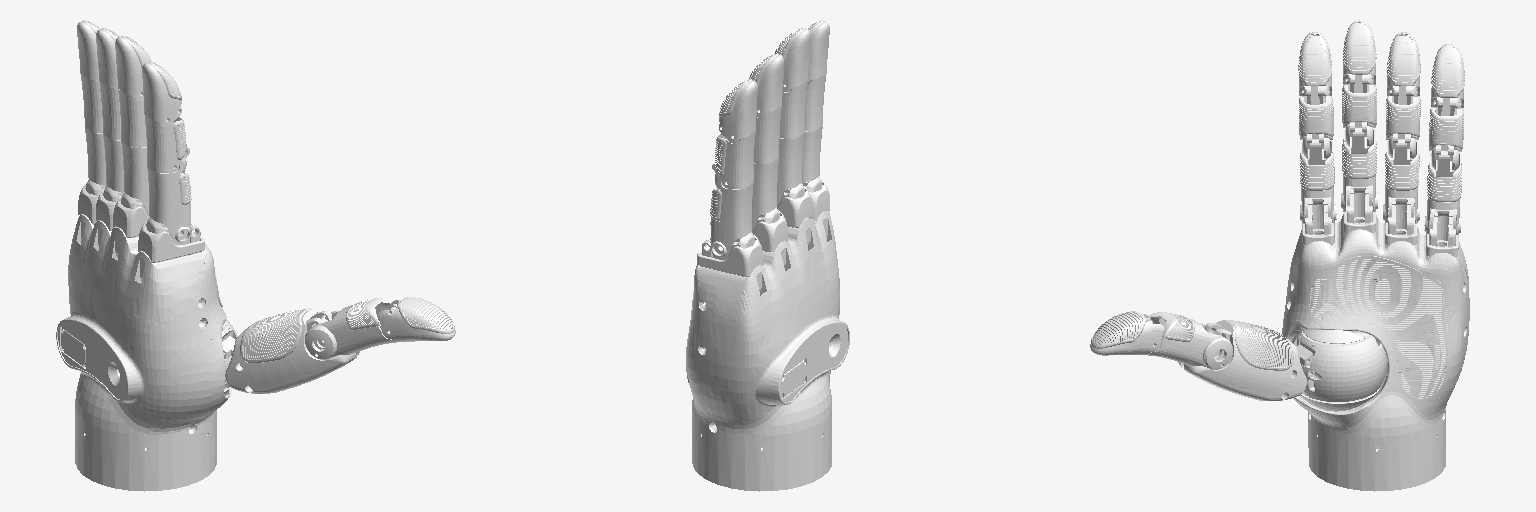
URDF robot description (likerhand_o7t_left.urdf):
<?xml version="1.0" encoding="utf-8"?>
<!-- This URDF was automatically created by SolidWorks to URDF Exporter! Originally created by [author] ([email redacted]) 
     Commit Version: 1.6.0-4-g7f85cfe  Build Version: 1.6.7995.38578
     For more information, please see http://wiki.ros.org/sw_urdf_exporter -->
<robot
  name="likerhand_o7t_left.urdf">
  <link
    name="hand_base_link">
    <inertial>
      <origin
        xyz="-0.0042500911837508 0.00085680978297864 0.0748400307377518"
        rpy="0 0 0" />
      <mass
        value="0.225124072566834" />
      <inertia
        ixx="0.000307215791868368"
        ixy="-2.62393594835236E-06"
        ixz="-6.32980141818779E-06"
        iyy="0.000204974944876431"
        iyz="3.62195604578169E-06"
        izz="0.000138551118704521" />
    </inertial>
    <visual>
      <origin
        xyz="0 0 0"
        rpy="0 0 0" />
      <geometry>
        <mesh
          filename="meshes/hand_base_link.STL" />
      </geometry>
      <material
        name="">
        <color
          rgba="1 1 1 1" />
      </material>
    </visual>
    <collision>
      <origin
        xyz="0 0 0"
        rpy="0 0 0" />
      <geometry>
        <mesh
          filename="meshes/hand_base_link.STL" />
      </geometry>
    </collision>
  </link>
  <link
    name="thumb_metacarpals_base1">
    <inertial>
      <origin
        xyz="0.0221868758326095 -9.48625995070285E-06 -0.00324883171979469"
        rpy="0 0 0" />
      <mass
        value="0.0115244960032222" />
      <inertia
        ixx="3.08657221406028E-06"
        ixy="2.39576891596808E-09"
        ixz="3.1376074283793E-07"
        iyy="4.37069643376973E-06"
        iyz="1.08562146715063E-09"
        izz="1.95654132689649E-06" />
    </inertial>
    <visual>
      <origin
        xyz="0 0 0"
        rpy="0 0 0" />
      <geometry>
        <mesh
          filename="meshes/thumb_metacarpals_base1.STL" />
      </geometry>
      <material
        name="">
        <color
          rgba="1 1 1 1" />
      </material>
    </visual>
    <collision>
      <origin
        xyz="0 0 0"
        rpy="0 0 0" />
      <geometry>
        <mesh
          filename="meshes/thumb_metacarpals_base1.STL" />
      </geometry>
    </collision>
  </link>
  <joint
    name="thumb_cmc_roll"
    type="revolute">
    <origin
      xyz="-0.016939 -0.018427 0.057465"
      rpy="0 0 0" />
    <parent
      link="hand_base_link" />
    <child
      link="thumb_metacarpals_base1" />
    <axis
      xyz="-1 0 0" />
    <limit
      lower="-0.785"
      upper="0.785"
      effort="100"
      velocity="1" />
  </joint>
  <link
    name="thumb_metacarpals_base2">
    <inertial>
      <origin
        xyz="0.000732158506501421 -0.00116891771237498 -0.00114043413649958"
        rpy="0 0 0" />
      <mass
        value="0.0194012482707974" />
      <inertia
        ixx="3.11023242394477E-06"
        ixy="7.00345951479998E-07"
        ixz="-3.45895864415883E-08"
        iyy="2.43362631795933E-06"
        iyz="5.55699212497148E-08"
        izz="2.77691812675186E-06" />
    </inertial>
    <visual>
      <origin
        xyz="0 0 0"
        rpy="0 0 0" />
      <geometry>
        <mesh
          filename="meshes/thumb_metacarpals_base2.STL" />
      </geometry>
      <material
        name="">
        <color
          rgba="1 1 1 1" />
      </material>
    </visual>
    <collision>
      <origin
        xyz="0 0 0"
        rpy="0 0 0" />
      <geometry>
        <mesh
          filename="meshes/thumb_metacarpals_base2.STL" />
      </geometry>
    </collision>
  </link>
  <joint
    name="thumb_cmc_yaw"
    type="revolute">
    <origin
      xyz="0.029224 0.00012028 0.0020117"
      rpy="0 0 0" />
    <parent
      link="thumb_metacarpals_base1" />
    <child
      link="thumb_metacarpals_base2" />
    <axis
      xyz="0 0 1" />
    <limit
      lower="0"
      upper="1.57"
      effort="100"
      velocity="1" />
  </joint>
  <link
    name="thumb_metacarpals">
    <inertial>
      <origin
        xyz="0.00175928357967789 5.98422066862003E-05 0.0251802708380432"
        rpy="0 0 0" />
      <mass
        value="0.0177522528853587" />
      <inertia
        ixx="2.97620250609612E-06"
        ixy="-1.75606406726447E-10"
        ixz="8.88206077184725E-08"
        iyy="4.02119583080426E-06"
        iyz="-5.14340714112944E-10"
        izz="1.61792798866592E-06" />
    </inertial>
    <visual>
      <origin
        xyz="0 0 0"
        rpy="0 0 0" />
      <geometry>
        <mesh
          filename="meshes/thumb_metacarpals.STL" />
      </geometry>
      <material
        name="">
        <color
          rgba="1 1 1 1" />
      </material>
    </visual>
    <collision>
      <origin
        xyz="0 0 0"
        rpy="0 0 0" />
      <geometry>
        <mesh
          filename="meshes/thumb_metacarpals.STL" />
      </geometry>
    </collision>
  </link>
  <joint
    name="thumb_cmc_pitch"
    type="revolute">
    <origin
      xyz="0.015425 -0.024408 -0.0034929"
      rpy="0 -1.1075 2.1313" />
    <parent
      link="thumb_metacarpals_base2" />
    <child
      link="thumb_metacarpals" />
    <axis
      xyz="0 1 0" />
    <limit
      lower="0"
      upper="0.5285"
      effort="100"
      velocity="1" />
  </joint>
  <link
    name="thumb_proximal">
    <inertial>
      <origin
        xyz="-0.000134514656695575 -6.2245440023978E-06 0.0155657254696806"
        rpy="0 0 0" />
      <mass
        value="0.00522318022645753" />
      <inertia
        ixx="9.25272679777908E-07"
        ixy="8.8733597010757E-12"
        ixz="1.11610235976856E-07"
        iyy="8.23288983910426E-07"
        iyz="-4.13122351934137E-11"
        izz="4.09240194803836E-07" />
    </inertial>
    <visual>
      <origin
        xyz="0 0 0"
        rpy="0 0 0" />
      <geometry>
        <mesh
          filename="meshes/thumb_proximal.STL" />
      </geometry>
      <material
        name="">
        <color
          rgba="1 1 1 1" />
      </material>
    </visual>
    <collision>
      <origin
        xyz="0 0 0"
        rpy="0 0 0" />
      <geometry>
        <mesh
          filename="meshes/thumb_proximal.STL" />
      </geometry>
    </collision>
  </link>
  <joint
    name="thumb_mcp"
    type="revolute">
    <origin
      xyz="0.0049422 0 0.050268"
      rpy="0 0 0" />
    <parent
      link="thumb_metacarpals" />
    <child
      link="thumb_proximal" />
    <axis
      xyz="0 1 0" />
    <limit
      lower="0"
      upper="1.186"
      effort="100"
      velocity="1" />
    <mimic
      joint="thumb_cmc_pitch"
      multiplier="2.24"
      offset="0" />
  </joint>
  <link
    name="thumb_distal">
    <inertial>
      <origin
        xyz="-0.0012828823583598 8.66398637835997E-06 0.0121296195661648"
        rpy="0 0 0" />
      <mass
        value="0.0059927321340954" />
      <inertia
        ixx="3.54974702508419E-07"
        ixy="2.25470558333717E-10"
        ixz="1.02705988899827E-07"
        iyy="3.68385773825653E-07"
        iyz="5.55834292489291E-11"
        izz="2.80219721351633E-07" />
    </inertial>
    <visual>
      <origin
        xyz="0 0 0"
        rpy="0 0 0" />
      <geometry>
        <mesh
          filename="meshes/thumb_distal.STL" />
      </geometry>
      <material
        name="">
        <color
          rgba="1 1 1 1" />
      </material>
    </visual>
    <collision>
      <origin
        xyz="0 0 0"
        rpy="0 0 0" />
      <geometry>
        <mesh
          filename="meshes/thumb_distal.STL" />
      </geometry>
    </collision>
  </link>
  <joint
    name="thumb_ip"
    type="revolute">
    <origin
      xyz="-0.0040391 0 0.036444"
      rpy="0 0 0" />
    <parent
      link="thumb_proximal" />
    <child
      link="thumb_distal" />
    <axis
      xyz="0 1 0" />
    <limit
      lower="0"
      upper="1.256"
      effort="100"
      velocity="1" />
    <mimic
      joint="thumb_cmc_pitch"
      multiplier="2.38"
      offset="0" />
  </joint>
  <link
    name="index_proximal">
    <inertial>
      <origin
        xyz="-0.00325184022307572 -5.73777268036979E-05 0.0195194519488432"
        rpy="0 0 0" />
      <mass
        value="0.00304918852223857" />
      <inertia
        ixx="2.70561430617686E-07"
        ixy="4.04016903074442E-10"
        ixz="3.98546481487138E-08"
        iyy="2.61413228132876E-07"
        iyz="1.27694129235523E-09"
        izz="1.43213403424246E-07" />
    </inertial>
    <visual>
      <origin
        xyz="0 0 0"
        rpy="0 0 0" />
      <geometry>
        <mesh
          filename="meshes/index_proximal.STL" />
      </geometry>
      <material
        name="">
        <color
          rgba="1 1 1 1" />
      </material>
    </visual>
    <collision>
      <origin
        xyz="0 0 0"
        rpy="0 0 0" />
      <geometry>
        <mesh
          filename="meshes/index_proximal.STL" />
      </geometry>
    </collision>
  </link>
  <joint
    name="index_mcp_pitch"
    type="revolute">
    <origin
      xyz="-0.0010899 -0.027484 0.1273"
      rpy="0.017453 0 0" />
    <parent
      link="hand_base_link" />
    <child
      link="index_proximal" />
    <axis
      xyz="0 1 0" />
    <limit
      lower="0"
      upper="1.325"
      effort="100"
      velocity="1" />
  </joint>
  <link
    name="index_middle">
    <inertial>
      <origin
        xyz="-0.00220166605939472 0.000343544227875414 0.0115244041402905"
        rpy="0 0 0" />
      <mass
        value="0.00325826222115125" />
      <inertia
        ixx="2.84903328684065E-07"
        ixy="-1.91220675187704E-09"
        ixz="4.46236233645146E-08"
        iyy="2.60287147871894E-07"
        iyz="4.72747608453597E-09"
        izz="1.33240305815556E-07" />
    </inertial>
    <visual>
      <origin
        xyz="0 0 0"
        rpy="0 0 0" />
      <geometry>
        <mesh
          filename="meshes/index_middle.STL" />
      </geometry>
      <material
        name="">
        <color
          rgba="1 1 1 1" />
      </material>
    </visual>
    <collision>
      <origin
        xyz="0 0 0"
        rpy="0 0 0" />
      <geometry>
        <mesh
          filename="meshes/index_middle.STL" />
      </geometry>
    </collision>
  </link>
  <joint
    name="index_pip"
    type="revolute">
    <origin
      xyz="-0.0033727 0 0.03351"
      rpy="0 0 0" />
    <parent
      link="index_proximal" />
    <child
      link="index_middle" />
    <axis
      xyz="0 1 0" />
    <limit
      lower="0"
      upper="1.57"
      effort="100"
      velocity="1" />
    <mimic
      joint="index_mcp_pitch"
      multiplier="1.18"
      offset="0" />
  </joint>
  <link
    name="index_distal">
    <inertial>
      <origin
        xyz="0.000205192768436009 5.00807908632439E-05 0.0116640269704398"
        rpy="0 0 0" />
      <mass
        value="0.00386914599414329" />
      <inertia
        ixx="2.13092899098193E-07"
        ixy="-4.43659936071928E-10"
        ixz="4.32266496521949E-08"
        iyy="2.07077941254489E-07"
        iyz="3.00868537950707E-09"
        izz="1.20295876651976E-07" />
    </inertial>
    <visual>
      <origin
        xyz="0 0 0"
        rpy="0 0 0" />
      <geometry>
        <mesh
          filename="meshes/index_distal.STL" />
      </geometry>
      <material
        name="">
        <color
          rgba="1 1 1 1" />
      </material>
    </visual>
    <collision>
      <origin
        xyz="0 0 0"
        rpy="0 0 0" />
      <geometry>
        <mesh
          filename="meshes/index_distal.STL" />
      </geometry>
    </collision>
  </link>
  <joint
    name="index_dip"
    type="revolute">
    <origin
      xyz="-0.0050438 0 0.025752"
      rpy="0 0 0" />
    <parent
      link="index_middle" />
    <child
      link="index_distal" />
    <axis
      xyz="0 1 0" />
    <limit
      lower="0"
      upper="1"
      effort="100"
      velocity="1" />
    <mimic
      joint="index_mcp_pitch"
      multiplier="0.7493"
      offset="0" />
  </joint>
  <link
    name="middle_proximal">
    <inertial>
      <origin
        xyz="-0.00325186288012639 -5.73454626350833E-05 0.0195195889004449"
        rpy="0 0 0" />
      <mass
        value="0.00304916574973766" />
      <inertia
        ixx="2.70554051207578E-07"
        ixy="4.03711836861357E-10"
        ixz="3.98537937936656E-08"
        iyy="2.61406398624621E-07"
        iyz="1.278882248156E-09"
        izz="1.43213023085845E-07" />
    </inertial>
    <visual>
      <origin
        xyz="0 0 0"
        rpy="0 0 0" />
      <geometry>
        <mesh
          filename="meshes/middle_proximal.STL" />
      </geometry>
      <material
        name="">
        <color
          rgba="1 1 1 1" />
      </material>
    </visual>
    <collision>
      <origin
        xyz="0 0 0"
        rpy="0 0 0" />
      <geometry>
        <mesh
          filename="meshes/middle_proximal.STL" />
      </geometry>
    </collision>
  </link>
  <joint
    name="middle_mcp_pitch"
    type="revolute">
    <origin
      xyz="-0.0030759 -0.0081771 0.1323"
      rpy="0 0 0" />
    <parent
      link="hand_base_link" />
    <child
      link="middle_proximal" />
    <axis
      xyz="0 1 0" />
    <limit
      lower="0"
      upper="1.325"
      effort="100"
      velocity="1" />
  </joint>
  <link
    name="middle_middle">
    <inertial>
      <origin
        xyz="-0.00220166778232146 0.000343539248883085 0.0115243995791403"
        rpy="0 0 0" />
      <mass
        value="0.00325826090000982" />
      <inertia
        ixx="2.84903242801029E-07"
        ixy="-1.91226349169516E-09"
        ixz="4.46235974644869E-08"
        iyy="2.60287108562876E-07"
        iyz="4.72757371001898E-09"
        izz="1.33240236728541E-07" />
    </inertial>
    <visual>
      <origin
        xyz="0 0 0"
        rpy="0 0 0" />
      <geometry>
        <mesh
          filename="meshes/middle_middle.STL" />
      </geometry>
      <material
        name="">
        <color
          rgba="1 1 1 1" />
      </material>
    </visual>
    <collision>
      <origin
        xyz="0 0 0"
        rpy="0 0 0" />
      <geometry>
        <mesh
          filename="meshes/middle_middle.STL" />
      </geometry>
    </collision>
  </link>
  <joint
    name="middle_pip"
    type="revolute">
    <origin
      xyz="-0.0033727 0 0.03351"
      rpy="0 0 0" />
    <parent
      link="middle_proximal" />
    <child
      link="middle_middle" />
    <axis
      xyz="0 1 0" />
    <limit
      lower="0"
      upper="1.57"
      effort="100"
      velocity="1" />
    <mimic
      joint="middle_mcp_pitch"
      multiplier="1.18"
      offset="0" />
  </joint>
  <link
    name="middle_distal">
    <inertial>
      <origin
        xyz="0.000205178072639707 5.00682687798182E-05 0.0116640598651227"
        rpy="0 0 0" />
      <mass
        value="0.00386915654397527" />
      <inertia
        ixx="2.13094283443978E-07"
        ixy="-4.4383622725015E-10"
        ixz="4.32271566193733E-08"
        iyy="2.07079487486431E-07"
        iyz="3.00914543235198E-09"
        izz="1.20296117946962E-07" />
    </inertial>
    <visual>
      <origin
        xyz="0 0 0"
        rpy="0 0 0" />
      <geometry>
        <mesh
          filename="meshes/middle_distal.STL" />
      </geometry>
      <material
        name="">
        <color
          rgba="1 1 1 1" />
      </material>
    </visual>
    <collision>
      <origin
        xyz="0 0 0"
        rpy="0 0 0" />
      <geometry>
        <mesh
          filename="meshes/middle_distal.STL" />
      </geometry>
    </collision>
  </link>
  <joint
    name="middle_dip"
    type="revolute">
    <origin
      xyz="-0.0050438 0 0.025752"
      rpy="0 0 0" />
    <parent
      link="middle_middle" />
    <child
      link="middle_distal" />
    <axis
      xyz="0 1 0" />
    <limit
      lower="0"
      upper="1"
      effort="100"
      velocity="1" />
    <mimic
      joint="middle_mcp_pitch"
      multiplier="0.7493"
      offset="0" />
  </joint>
  <link
    name="ring_proximal">
    <inertial>
      <origin
        xyz="-0.00325188639109948 -5.73091636886791E-05 0.0195197425412056"
        rpy="0 0 0" />
      <mass
        value="0.00304914173423174" />
      <inertia
        ixx="2.70545905130282E-07"
        ixy="4.03369804356248E-10"
        ixz="3.98528630246444E-08"
        iyy="2.61398848427869E-07"
        iyz="1.28105530251793E-09"
        izz="1.43212636885902E-07" />
    </inertial>
    <visual>
      <origin
        xyz="0 0 0"
        rpy="0 0 0" />
      <geometry>
        <mesh
          filename="meshes/ring_proximal.STL" />
      </geometry>
      <material
        name="">
        <color
          rgba="1 1 1 1" />
      </material>
    </visual>
    <collision>
      <origin
        xyz="0 0 0"
        rpy="0 0 0" />
      <geometry>
        <mesh
          filename="meshes/ring_proximal.STL" />
      </geometry>
    </collision>
  </link>
  <joint
    name="ring_mcp_pitch"
    type="revolute">
    <origin
      xyz="-0.0010899 0.01113 0.1273"
      rpy="-0.017453 0 0" />
    <parent
      link="hand_base_link" />
    <child
      link="ring_proximal" />
    <axis
      xyz="0 1 0" />
    <limit
      lower="0"
      upper="1.325"
      effort="100"
      velocity="1" />
  </joint>
  <link
    name="ring_middle">
    <inertial>
      <origin
        xyz="-0.00220166573650245 0.000343543985173556 0.0115244051126353"
        rpy="0 0 0" />
      <mass
        value="0.00325826270162551" />
      <inertia
        ixx="2.8490335431282E-07"
        ixy="-1.91220861885623E-09"
        ixz="4.46236286956316E-08"
        iyy="2.60287161545827E-07"
        iyz="4.72747837494482E-09"
        izz="1.3324032112194E-07" />
    </inertial>
    <visual>
      <origin
        xyz="0 0 0"
        rpy="0 0 0" />
      <geometry>
        <mesh
          filename="meshes/ring_middle.STL" />
      </geometry>
      <material
        name="">
        <color
          rgba="1 1 1 1" />
      </material>
    </visual>
    <collision>
      <origin
        xyz="0 0 0"
        rpy="0 0 0" />
      <geometry>
        <mesh
          filename="meshes/ring_middle.STL" />
      </geometry>
    </collision>
  </link>
  <joint
    name="ring_pip"
    type="revolute">
    <origin
      xyz="-0.0033727 0 0.03351"
      rpy="0 0 0" />
    <parent
      link="ring_proximal" />
    <child
      link="ring_middle" />
    <axis
      xyz="0 1 0" />
    <limit
      lower="0"
      upper="1.57"
      effort="100"
      velocity="1" />
    <mimic
      joint="ring_mcp_pitch"
      multiplier="1.18"
      offset="0" />
  </joint>
  <link
    name="ring_distal">
    <inertial>
      <origin
        xyz="0.000205171820409959 5.00624731339938E-05 0.0116640697629539"
        rpy="0 0 0" />
      <mass
        value="0.00386915820986361" />
      <inertia
        ixx="2.13094587693163E-07"
        ixy="-4.43940590912624E-10"
        ixz="4.32272330130178E-08"
        iyy="2.07079828868233E-07"
        iyz="3.00935119539752E-09"
        izz="1.20296055752743E-07" />
    </inertial>
    <visual>
      <origin
        xyz="0 0 0"
        rpy="0 0 0" />
      <geometry>
        <mesh
          filename="meshes/ring_distal.STL" />
      </geometry>
      <material
        name="">
        <color
          rgba="1 1 1 1" />
      </material>
    </visual>
    <collision>
      <origin
        xyz="0 0 0"
        rpy="0 0 0" />
      <geometry>
        <mesh
          filename="meshes/ring_distal.STL" />
      </geometry>
    </collision>
  </link>
  <joint
    name="ring_dip"
    type="revolute">
    <origin
      xyz="-0.0050438 0 0.025752"
      rpy="0 0 0" />
    <parent
      link="ring_middle" />
    <child
      link="ring_distal" />
    <axis
      xyz="0 1 0" />
    <limit
      lower="0"
      upper="1"
      effort="100"
      velocity="1" />
    <mimic
      joint="ring_mcp_pitch"
      multiplier="0.7493"
      offset="0" />
  </joint>
  <link
    name="pinky_proximal">
    <inertial>
      <origin
        xyz="-0.00325189370161746 -5.72983166947649E-05 0.0195197823487483"
        rpy="0 0 0" />
      <mass
        value="0.0030491364649747" />
      <inertia
        ixx="2.70544107359494E-07"
        ixy="4.03294066340961E-10"
        ixz="3.98526745300938E-08"
        iyy="2.61397222251281E-07"
        iyz="1.28156767029427E-09"
        izz="1.43212528194326E-07" />
    </inertial>
    <visual>
      <origin
        xyz="0 0 0"
        rpy="0 0 0" />
      <geometry>
        <mesh
          filename="meshes/pinky_proximal.STL" />
      </geometry>
      <material
        name="">
        <color
          rgba="1 1 1 1" />
      </material>
    </visual>
    <collision>
      <origin
        xyz="0 0 0"
        rpy="0 0 0" />
      <geometry>
        <mesh
          filename="meshes/pinky_proximal.STL" />
      </geometry>
    </collision>
  </link>
  <joint
    name="pinky_mcp_pitch"
    type="revolute">
    <origin
      xyz="0.00091015 0.030436 0.12229"
      rpy="-0.034907 0 0" />
    <parent
      link="hand_base_link" />
    <child
      link="pinky_proximal" />
    <axis
      xyz="0 1 0" />
    <limit
      lower="0"
      upper="1.325"
      effort="100"
      velocity="1" />
  </joint>
  <link
    name="pinky_middle">
    <inertial>
      <origin
        xyz="-0.002201665613911 0.000343544066900431 0.0115244051215708"
        rpy="0 0 0" />
      <mass
        value="0.00325826278499646" />
      <inertia
        ixx="2.84903357062453E-07"
        ixy="-1.91220937408046E-09"
        ixz="4.46236295954511E-08"
        iyy="2.60287165262845E-07"
        iyz="4.72747841623595E-09"
        izz="1.33240325394021E-07" />
    </inertial>
    <visual>
      <origin
        xyz="0 0 0"
        rpy="0 0 0" />
      <geometry>
        <mesh
          filename="meshes/pinky_middle.STL" />
      </geometry>
      <material
        name="">
        <color
          rgba="1 1 1 1" />
      </material>
    </visual>
    <collision>
      <origin
        xyz="0 0 0"
        rpy="0 0 0" />
      <geometry>
        <mesh
          filename="meshes/pinky_middle.STL" />
      </geometry>
    </collision>
  </link>
  <joint
    name="pinky_pip"
    type="revolute">
    <origin
      xyz="-0.0033727 0 0.03351"
      rpy="0 0 0" />
    <parent
      link="pinky_proximal" />
    <child
      link="pinky_middle" />
    <axis
      xyz="0 1 0" />
    <limit
      lower="0"
      upper="1.57"
      effort="100"
      velocity="1" />
    <mimic
      joint="pinky_mcp_pitch"
      multiplier="1.18"
      offset="0" />
  </joint>
  <link
    name="pinky_distal">
    <inertial>
      <origin
        xyz="0.000205168748081741 5.00603283008771E-05 0.0116640796497016"
        rpy="0 0 0" />
      <mass
        value="0.00386915855597929" />
      <inertia
        ixx="2.1309463405403E-07"
        ixy="-4.43985775170374E-10"
        ixz="4.32272565907302E-08"
        iyy="2.07079916973927E-07"
        iyz="3.00952443609274E-09"
        izz="1.20295986265221E-07" />
    </inertial>
    <visual>
      <origin
        xyz="0 0 0"
        rpy="0 0 0" />
      <geometry>
        <mesh
          filename="meshes/pinky_distal.STL" />
      </geometry>
      <material
        name="">
        <color
          rgba="1 1 1 1" />
      </material>
    </visual>
    <collision>
      <origin
        xyz="0 0 0"
        rpy="0 0 0" />
      <geometry>
        <mesh
          filename="meshes/pinky_distal.STL" />
      </geometry>
    </collision>
  </link>
  <joint
    name="pinky_dip"
    type="revolute">
    <origin
      xyz="-0.0050438 0 0.025752"
      rpy="0 0 0" />
    <parent
      link="pinky_middle" />
    <child
      link="pinky_distal" />
    <axis
      xyz="0 1 0" />
    <limit
      lower="0"
      upper="1"
      effort="100"
      velocity="1" />
    <mimic
      joint="pinky_mcp_pitch"
      multiplier="0.7493"
      offset="0" />
  </joint>
</robot>

--- What the picture shows (computed from the rendered views, not written in the file) ---
The picture shows the robot from 3 angles, left to right: view 1: azimuth 30°, elevation 25°; view 2: azimuth 150°, elevation 25°; view 3: azimuth 270°, elevation 25°; orthographic projection.
Robot: likerhand_o7t_left.urdf — 18 links, 17 joints (17 revolute); root link hand_base_link; default pose: every joint at zero.
Visible links, largest first — view 1: hand_base_link, thumb_metacarpals, thumb_proximal, thumb_distal, index_proximal, index_middle, index_distal, middle_distal, middle_proximal, middle_middle, ring_distal, pinky_distal (+4 smaller); view 2: hand_base_link, pinky_proximal, pinky_middle, pinky_distal, middle_distal, ring_distal, middle_proximal, ring_proximal, ring_middle, middle_middle, index_distal, index_middle (+1 smaller); view 3: hand_base_link, thumb_metacarpals, thumb_metacarpals_base2, thumb_proximal, thumb_distal, middle_proximal, pinky_proximal, ring_proximal, index_proximal, ring_distal, index_distal, index_middle (+6 smaller).
Link boxes in pixels (bbox=[...]): hand_base_link: bbox=[56, 179, 230, 491]; thumb_metacarpals: bbox=[225, 308, 359, 393]; thumb_proximal: bbox=[305, 298, 396, 359]; thumb_distal: bbox=[377, 297, 455, 341]; index_proximal: bbox=[147, 167, 191, 244]; index_middle: bbox=[144, 114, 189, 172]; index_distal: bbox=[142, 62, 181, 126]; middle_distal: bbox=[115, 36, 151, 100]; middle_proximal: bbox=[121, 141, 149, 216]; middle_middle: bbox=[118, 89, 146, 147]; ring_distal: bbox=[96, 28, 119, 91]; pinky_distal: bbox=[77, 20, 99, 84]; hand_base_link: bbox=[686, 177, 849, 491]; pinky_proximal: bbox=[710, 182, 753, 258]; pinky_middle: bbox=[712, 131, 755, 188]; pinky_distal: bbox=[719, 79, 757, 143]; middle_distal: bbox=[774, 28, 810, 91]; ring_distal: bbox=[748, 54, 783, 117]; middle_proximal: bbox=[777, 132, 804, 206]; ring_proximal: bbox=[752, 158, 778, 231]; ring_middle: bbox=[754, 106, 781, 163]; middle_middle: bbox=[780, 81, 807, 138]; index_distal: bbox=[807, 20, 829, 83]; index_middle: bbox=[805, 73, 826, 131]; hand_base_link: bbox=[1282, 186, 1469, 491]; thumb_metacarpals: bbox=[1178, 320, 1306, 400]; thumb_metacarpals_base2: bbox=[1292, 331, 1386, 401]; thumb_proximal: bbox=[1148, 312, 1232, 369]; thumb_distal: bbox=[1090, 311, 1164, 355]; middle_proximal: bbox=[1341, 127, 1377, 211]; pinky_proximal: bbox=[1424, 145, 1461, 234]; ring_proximal: bbox=[1383, 133, 1419, 223]; index_proximal: bbox=[1300, 139, 1336, 223]; ring_distal: bbox=[1387, 32, 1420, 96]; index_distal: bbox=[1298, 32, 1331, 96]; index_middle: bbox=[1299, 86, 1333, 158].
Size in the robot's own frame: 0.119 by 0.176 by 0.218 metres.
Meshes: 18 distinct files referenced, 18 mesh visuals loaded (18 binary STL).
